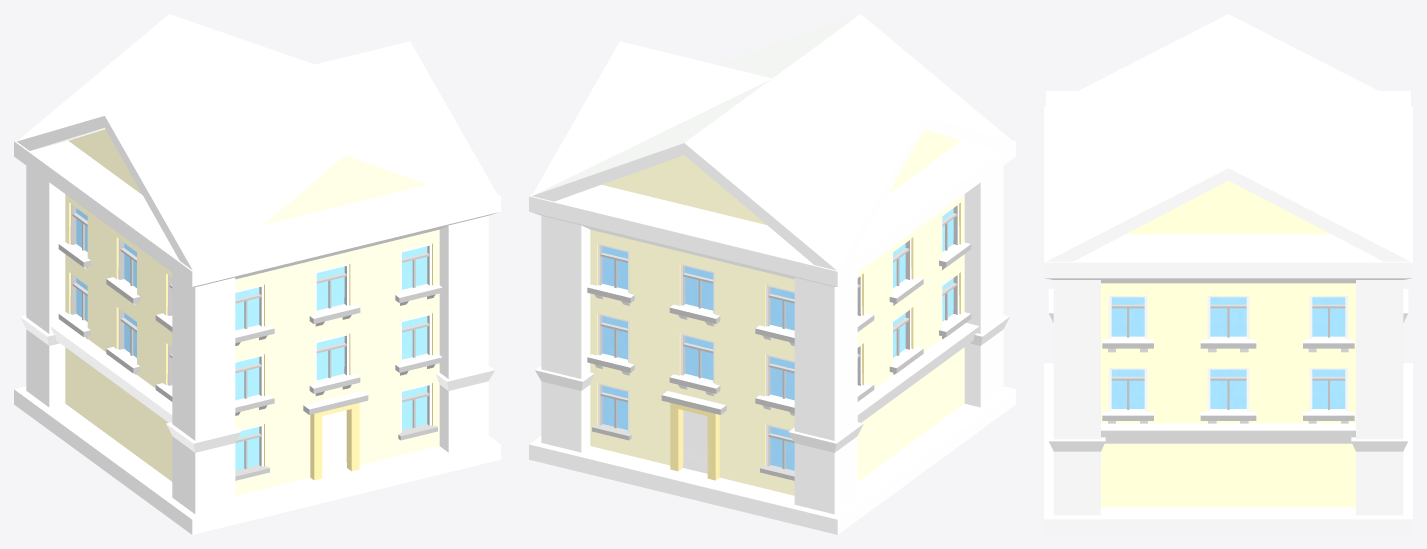
Rendered from art.004.glb.
3 renders of one model, left to right at view 1: azimuth 30°, elevation 25°; view 2: azimuth 150°, elevation 25°; view 3: azimuth 270°, elevation 25°, orthographic. The views are drawn at different scales.
Parts seen in each view (by area): view 1: art.004(Clone); view 2: art.004(Clone); view 3: art.004(Clone).
Part boxes in pixels (x1=…): art.004(Clone): x1=14, y1=14, x2=500, y2=534; art.004(Clone): x1=529, y1=14, x2=1015, y2=534; art.004(Clone): x1=1044, y1=14, x2=1412, y2=534.
Bounding box in the file's own units: 11.71 × 12.82 × 11.71.
Materials: 1 (1 with a texture image).
